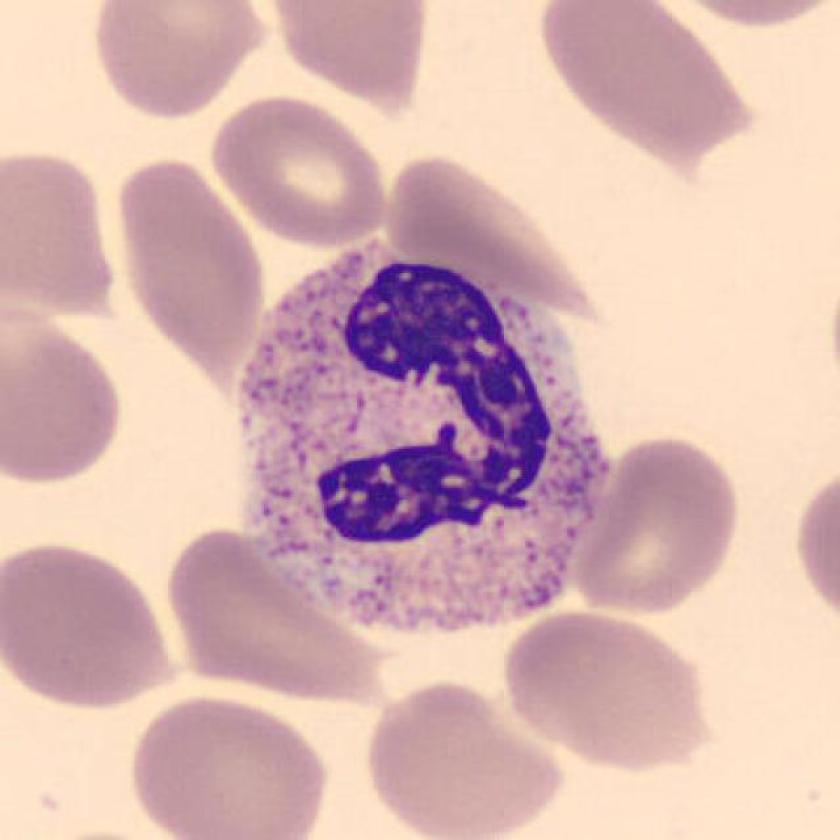neutrophil: (239, 243, 605, 631)
